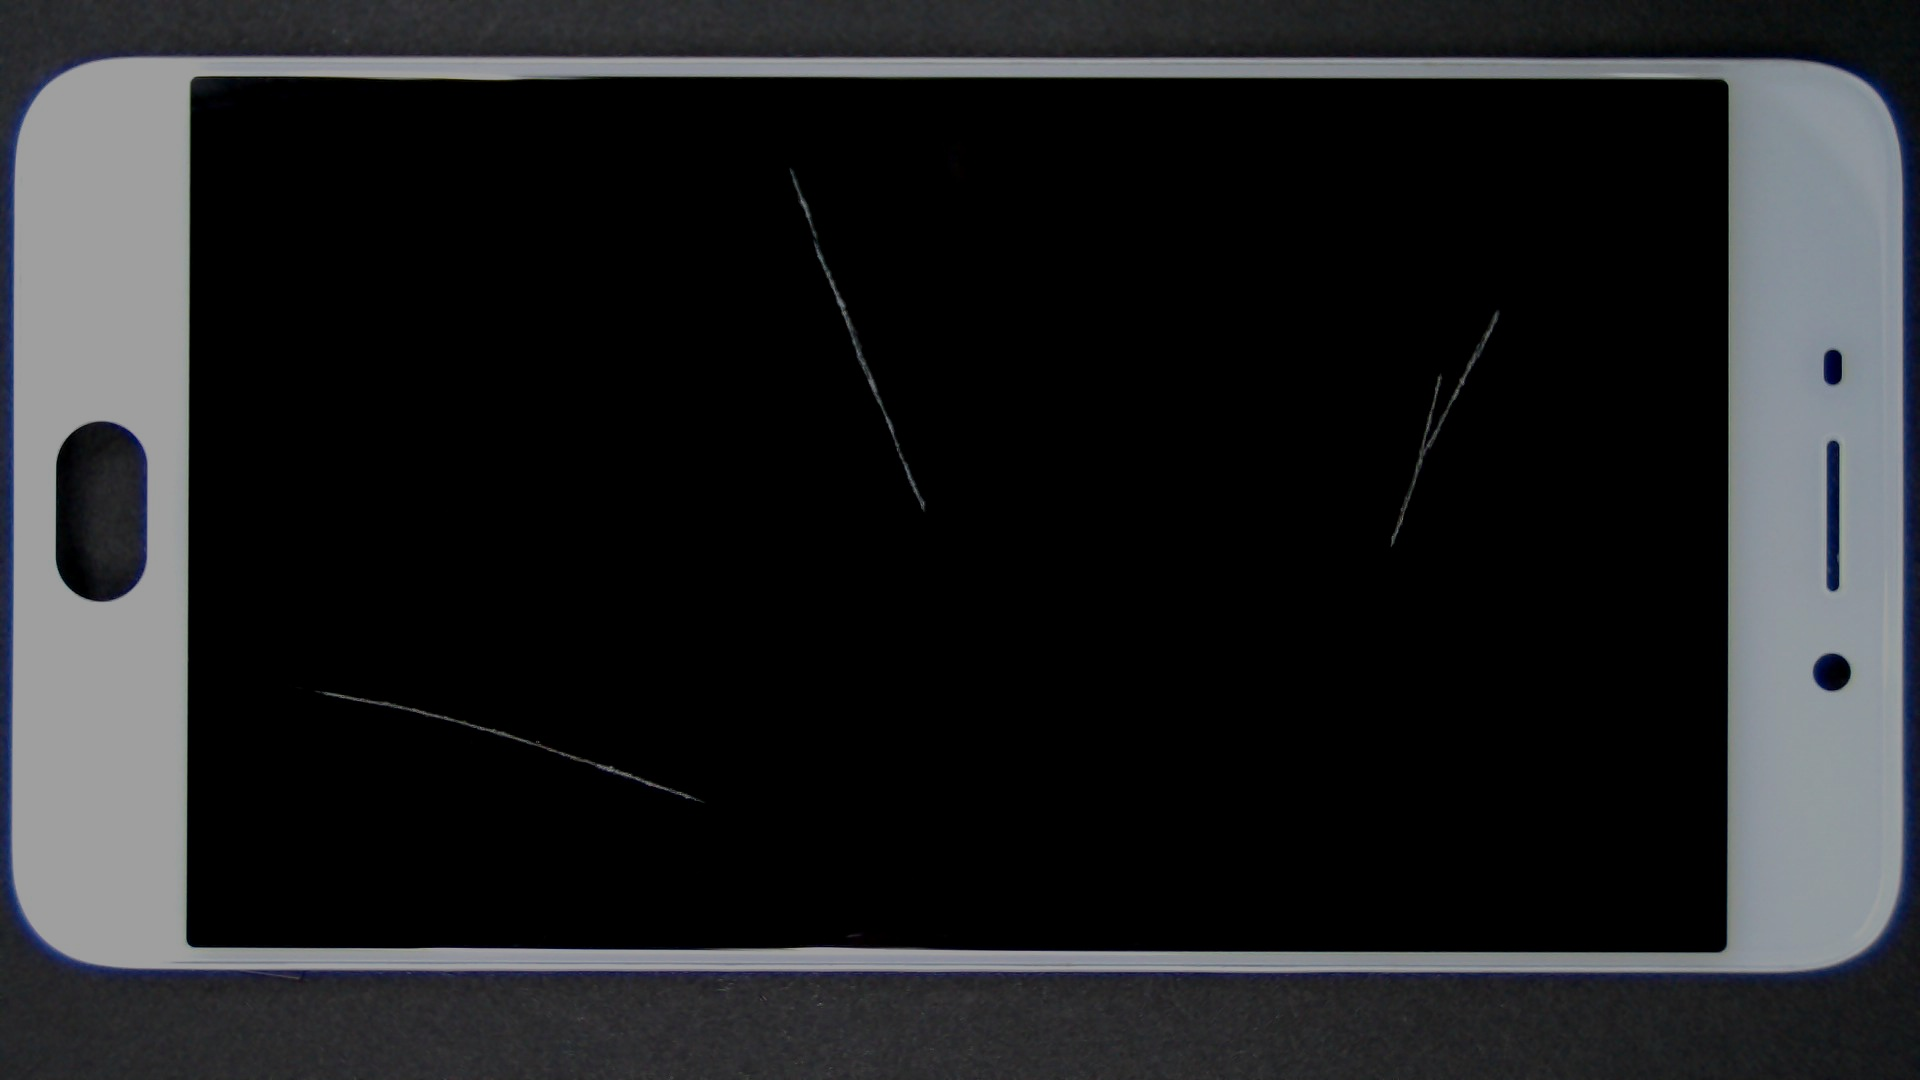oil: (749, 153, 1920, 463), (144, 342, 433, 1029), (396, 83, 1185, 249)
